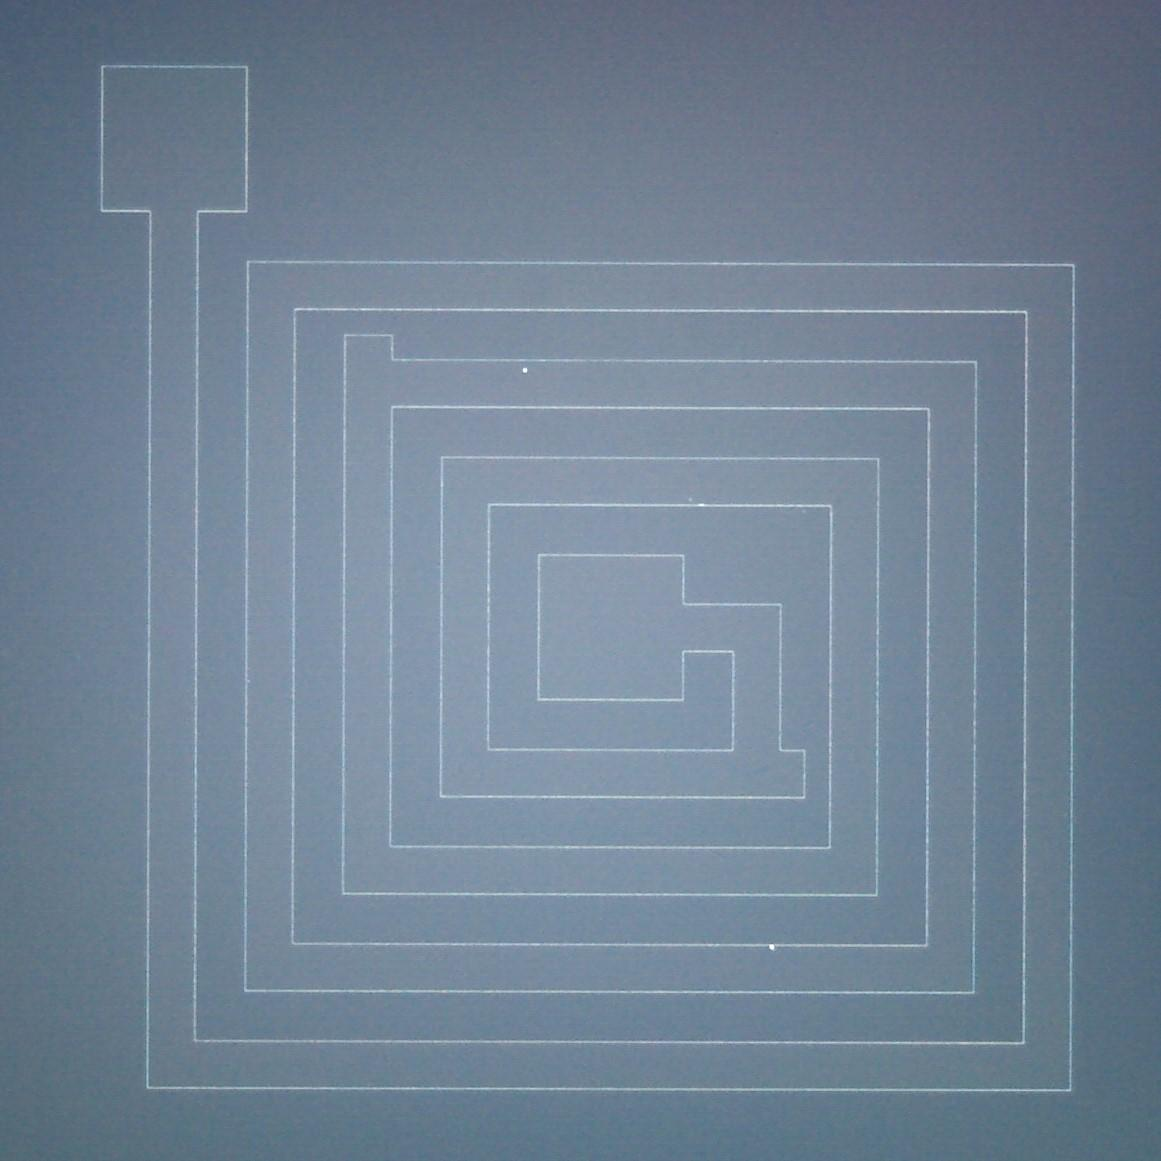project: (714, 710, 819, 820), (329, 323, 417, 428)
s_point: (516, 364, 535, 381), (763, 939, 780, 955), (682, 492, 696, 508)
